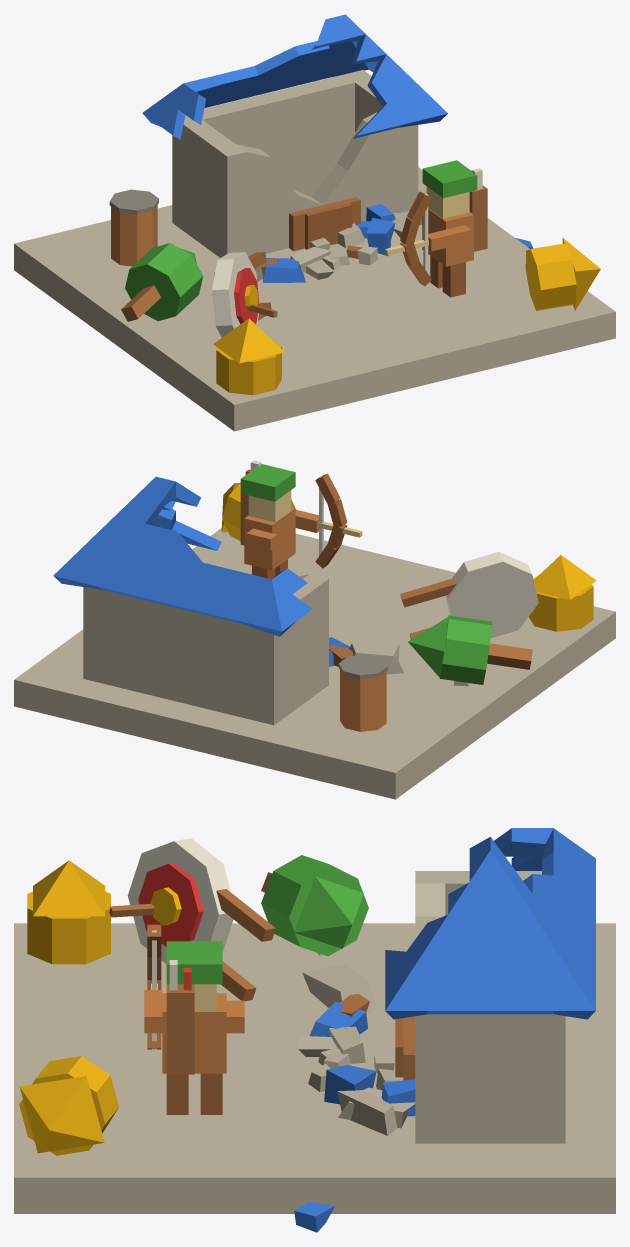
File: archery_range_t1_v2_dmg1.glb
The picture shows the model from 3 angles, top to bottom: view 1: azimuth 30°, elevation 25°; view 2: azimuth 150°, elevation 25°; view 3: azimuth 270°, elevation 25°; orthographic projection. The views are drawn at different scales.
Visible parts, largest first — view 1: archery_range_t1_v2_dmg1; view 2: archery_range_t1_v2_dmg1; view 3: archery_range_t1_v2_dmg1.
Part boxes in pixels (left/top/right/bottom): archery_range_t1_v2_dmg1: left=14, top=14, right=615, bottom=431; archery_range_t1_v2_dmg1: left=14, top=460, right=615, bottom=799; archery_range_t1_v2_dmg1: left=14, top=828, right=615, bottom=1232.
Size of the model in its own units: 0.6681 by 0.33 by 0.6.
1 material, 1 textured.
